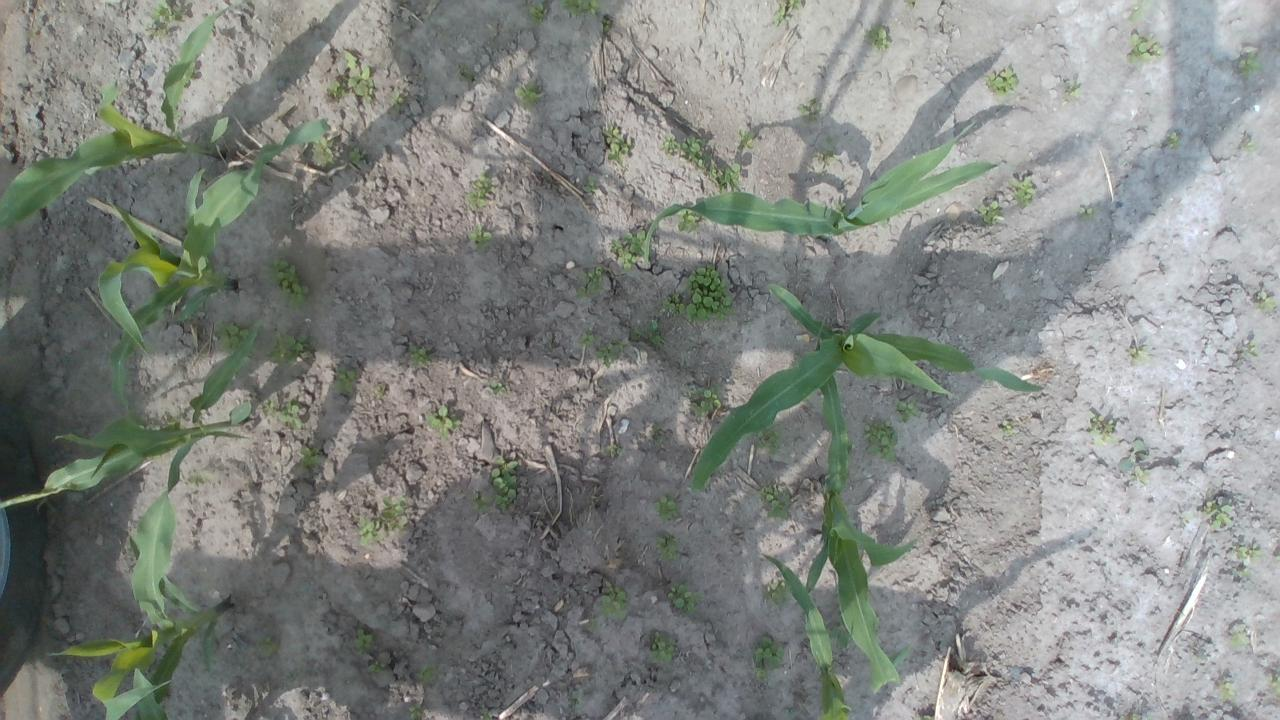Maize: (0, 318, 255, 634), (688, 284, 1045, 492), (96, 118, 331, 432), (0, 0, 226, 225), (646, 132, 1000, 261), (804, 375, 914, 697), (51, 524, 231, 720), (762, 552, 852, 720)
Weeds: (658, 262, 736, 324), (324, 46, 376, 105), (248, 326, 322, 365), (264, 256, 312, 311), (752, 634, 787, 682), (143, 0, 185, 40), (659, 136, 708, 170), (862, 419, 898, 463), (491, 456, 519, 511), (600, 122, 634, 167), (610, 230, 646, 272), (1120, 439, 1151, 486), (684, 384, 721, 419), (758, 483, 792, 521), (983, 66, 1020, 100), (668, 580, 704, 614), (598, 581, 630, 619), (1199, 496, 1234, 530), (426, 405, 460, 440), (212, 320, 248, 353), (1127, 32, 1163, 64), (706, 162, 742, 193), (810, 136, 836, 178), (466, 169, 492, 211), (1088, 410, 1116, 448), (827, 612, 855, 649), (574, 266, 604, 300), (647, 629, 676, 664), (311, 134, 338, 170), (382, 496, 408, 532), (594, 338, 626, 367), (1008, 174, 1036, 206), (893, 394, 922, 424), (756, 424, 782, 457), (773, 0, 806, 26), (514, 82, 544, 110), (762, 581, 790, 609), (653, 492, 680, 521), (864, 24, 891, 52), (560, 0, 601, 18), (656, 532, 679, 564), (359, 516, 383, 546), (280, 398, 302, 430), (468, 224, 493, 252), (796, 98, 822, 124), (979, 200, 1006, 225), (1238, 51, 1262, 78), (297, 444, 323, 468), (334, 366, 356, 394), (1229, 544, 1263, 562), (676, 209, 700, 234), (256, 634, 280, 658), (644, 320, 666, 346), (142, 414, 182, 428), (524, 3, 548, 26), (1228, 623, 1250, 648), (1254, 290, 1276, 314), (415, 662, 437, 686), (1130, 0, 1153, 22), (457, 61, 478, 85), (386, 88, 405, 114), (409, 345, 430, 368), (258, 398, 280, 419), (1128, 345, 1148, 366), (471, 492, 491, 513), (737, 128, 756, 150), (368, 660, 392, 677), (1062, 80, 1082, 100), (353, 628, 373, 648), (347, 143, 366, 164), (1265, 672, 1280, 697), (1241, 338, 1259, 358), (1218, 682, 1236, 702), (650, 424, 668, 443), (582, 174, 598, 194), (997, 419, 1015, 436), (578, 331, 595, 348), (1078, 206, 1098, 220), (834, 200, 850, 216), (1166, 132, 1181, 148), (408, 703, 422, 720), (490, 381, 507, 395), (604, 444, 623, 456), (186, 474, 210, 483), (628, 328, 644, 341), (1242, 140, 1257, 152), (570, 694, 580, 712), (1236, 568, 1252, 579), (286, 670, 300, 682), (480, 707, 492, 720), (586, 618, 596, 632), (602, 18, 612, 32), (1128, 715, 1150, 720), (545, 338, 555, 349), (915, 714, 931, 720), (878, 220, 889, 228), (905, 0, 916, 7), (1275, 555, 1280, 562), (756, 717, 765, 720)
